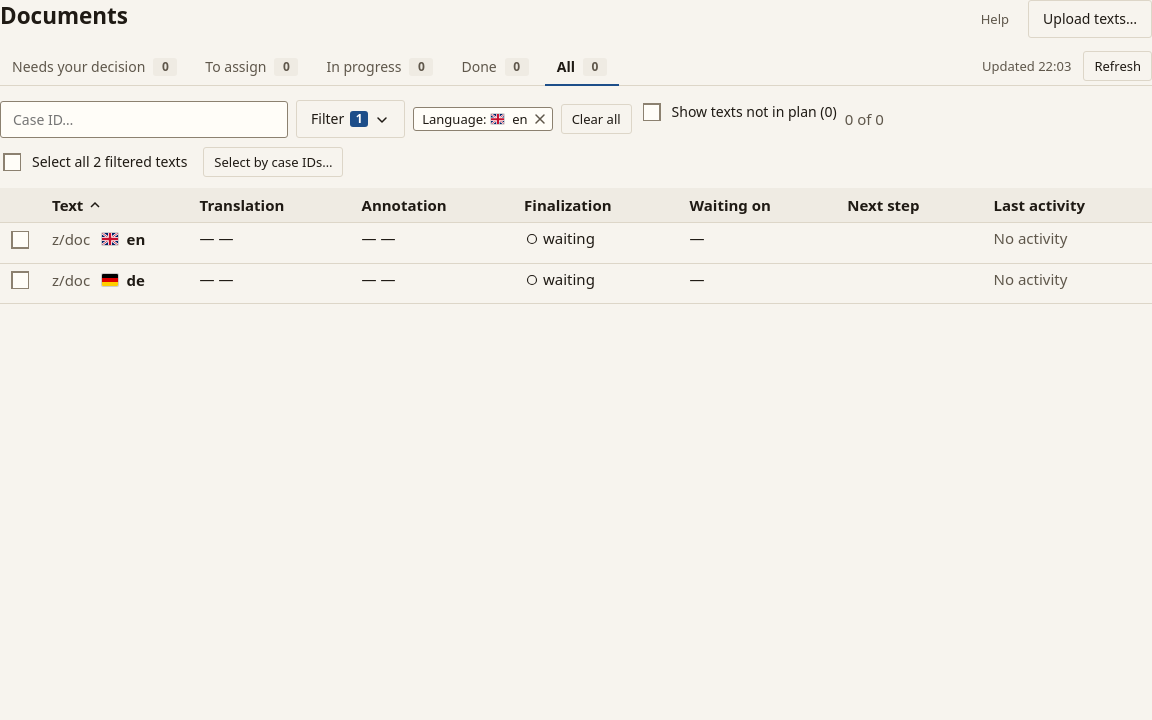
it: assigns the selected cases from the selection bar and refreshes rows and inventories after success
This screenshot has width=1152, height=720.
Expected: the button with aria-label "Text z/doc en" is shown, [52,227,145,251]
Expected: the element "Selection" is not shown
Click the checkbox named "Select z/doc en": {"x": 20, "y": 240} [8,228,32,252]
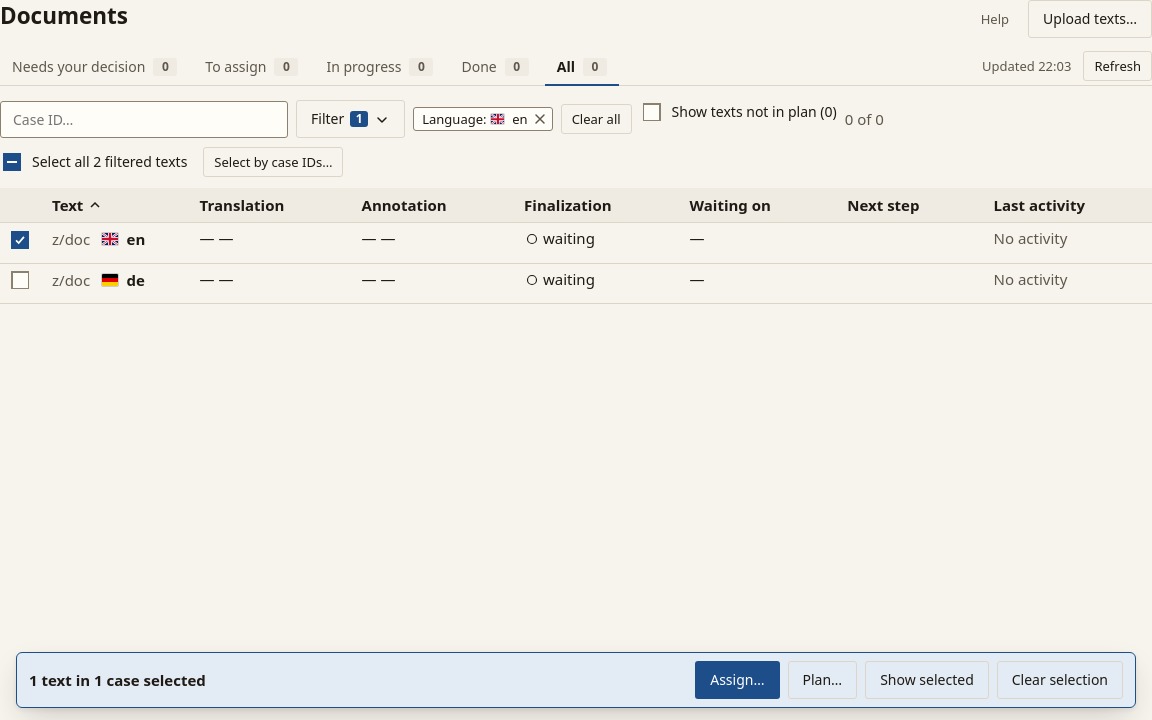
Click the checkbox named "Select z/doc de": {"x": 20, "y": 280} [8,268,32,292]
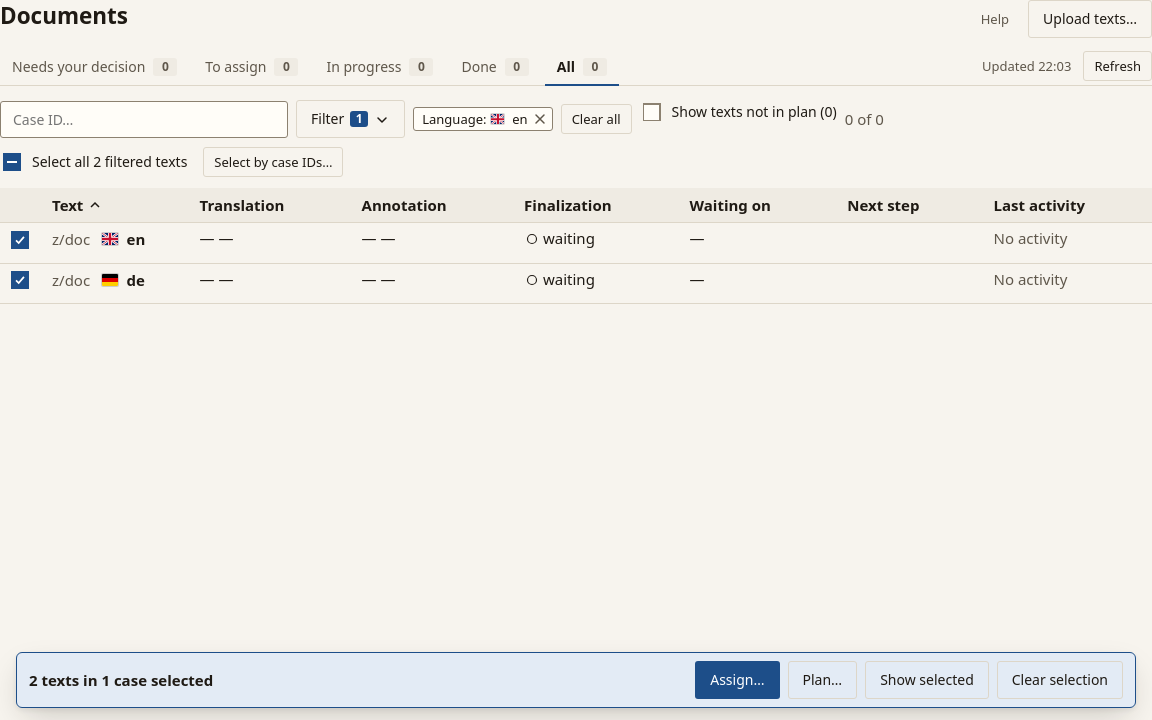
Click the button "Assign…": {"x": 737, "y": 680} [695,661,780,699]
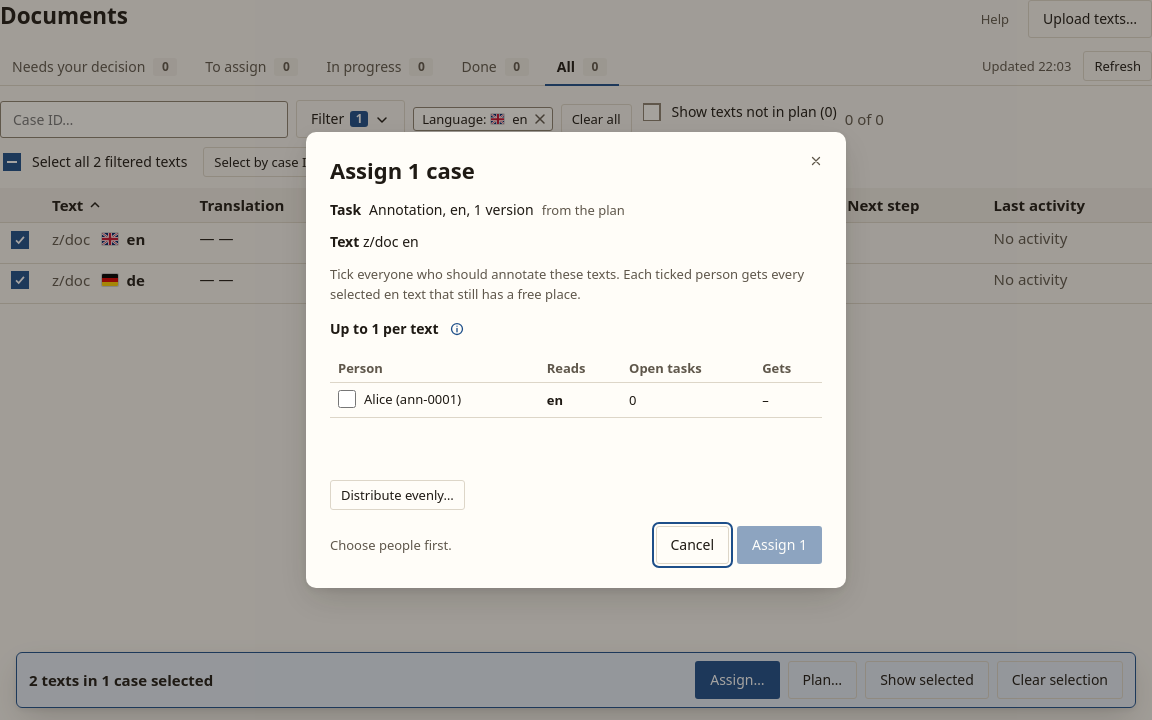
Click the checkbox labelled "Alice (ann-0001)": {"x": 347, "y": 399} [338,390,356,408]
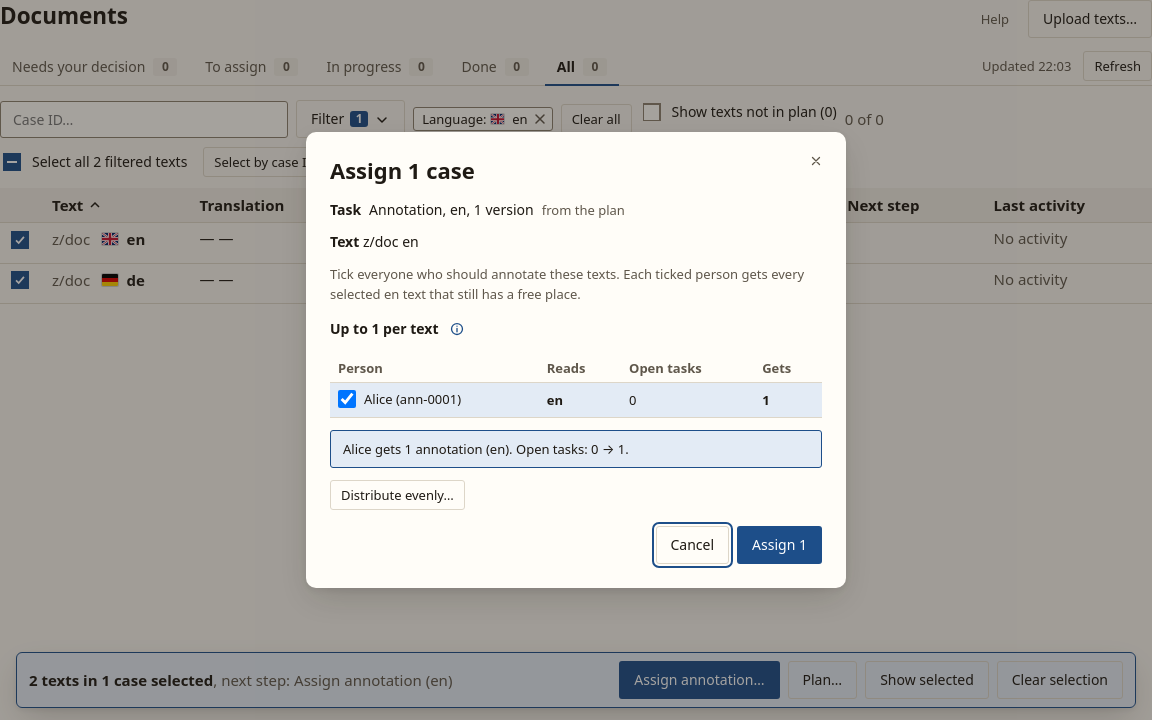
Expected: the button "Assign 1" does not have attribute aria-disabled
Click the button "Assign 1": {"x": 780, "y": 545} [737,526,822,564]
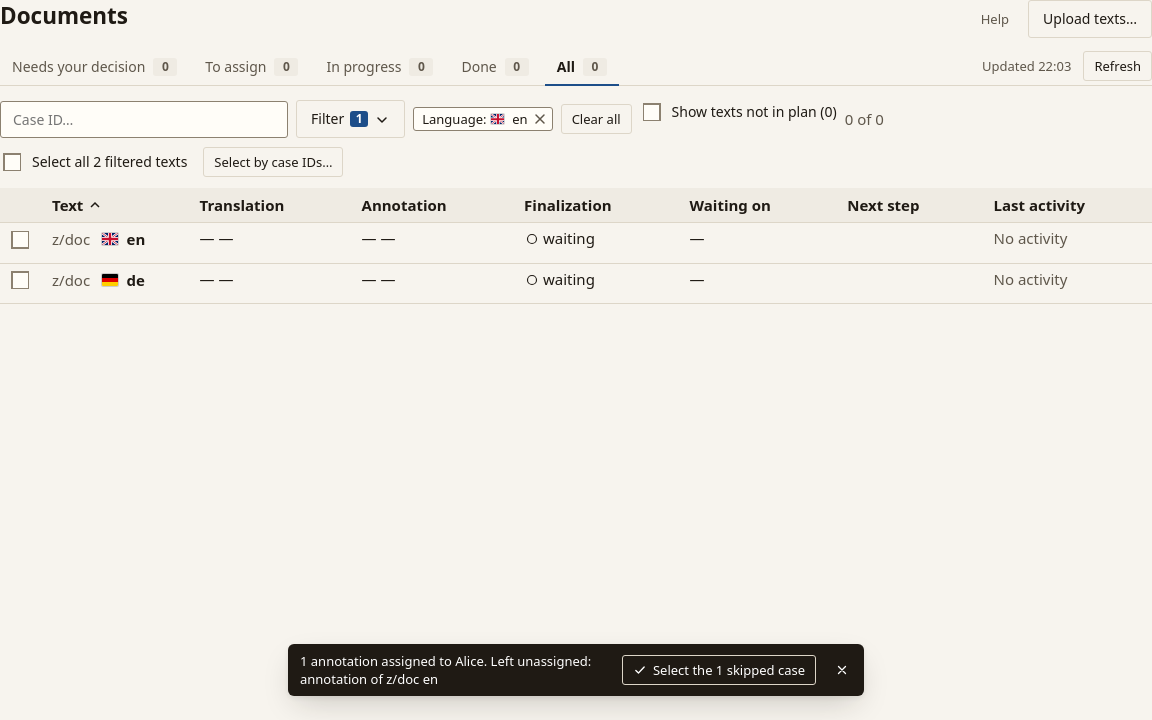
Expected: the heading "Assign 1 case" is gone
Expected: the button "selection" is gone
